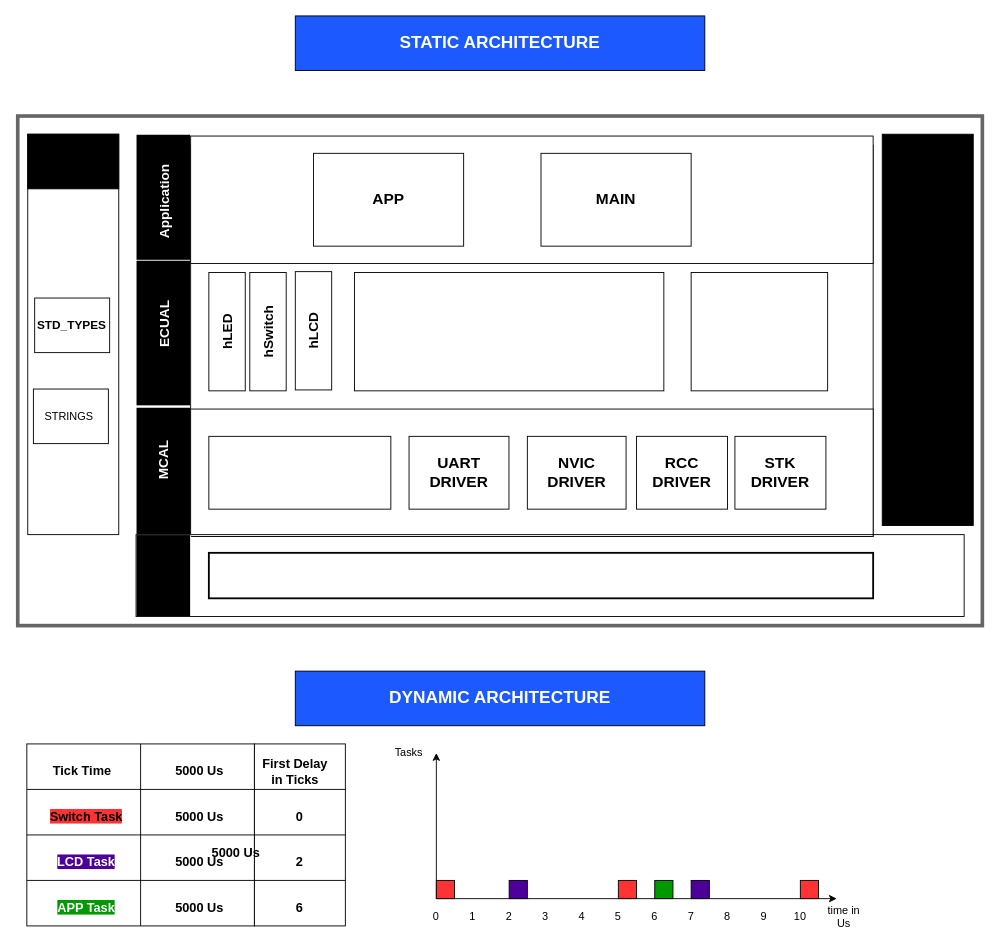
This 999x945 diagram has some shape labels left out. Each missing label, with the centre of its shape:
"GPIO DRIVER" belongs at point (299, 472).
"LIBRARY" belongs at point (73, 161).
"MC" belongs at point (163, 575).
"os" belongs at point (927, 329).
"STK HANDLER" belongs at point (759, 331).
"STM32" belongs at point (540, 575).
"UART HANDLER" belongs at point (509, 331).
